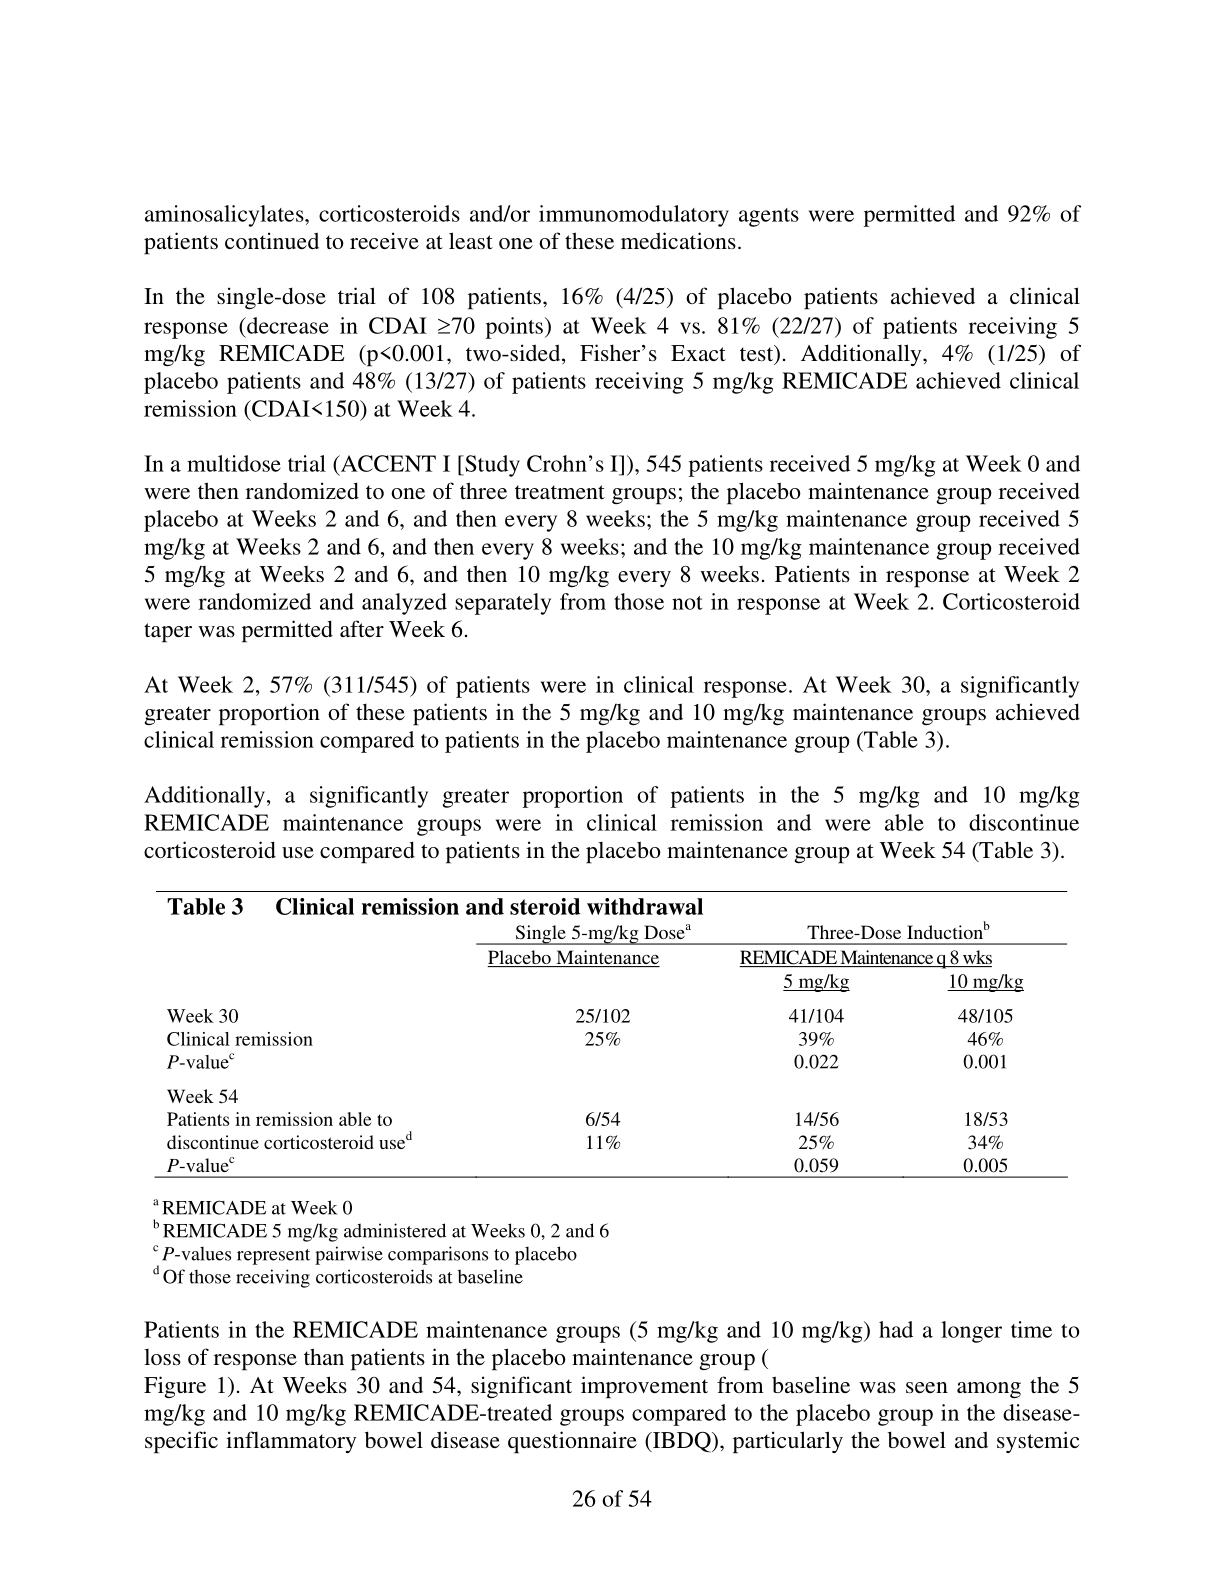partial_lined_merged_cells: (156, 921, 1074, 1180)
